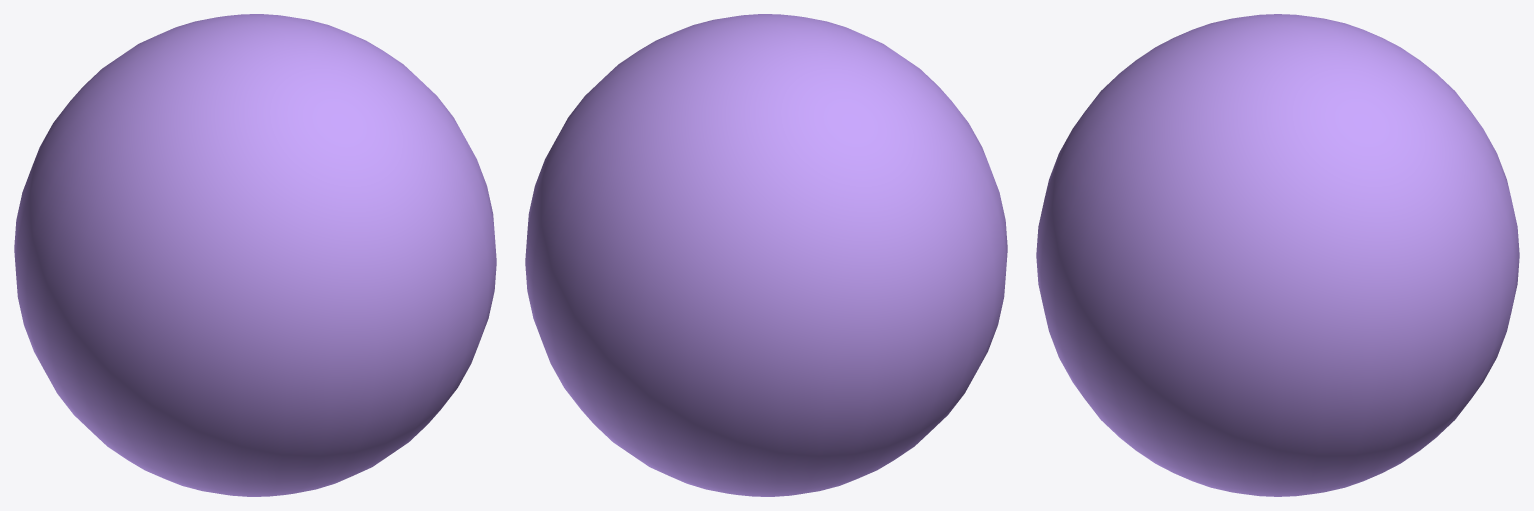
Rendered from nucleus.glb.
3 renders of one model, left to right at view 1: azimuth 30°, elevation 25°; view 2: azimuth 150°, elevation 25°; view 3: azimuth 270°, elevation 25°, orthographic.
Visible parts, largest first — view 1: Nucleus; view 2: Nucleus; view 3: Nucleus.
Boxes of the visible parts, <box> form: Nucleus: <box>14,14,496,496</box>; Nucleus: <box>525,14,1007,496</box>; Nucleus: <box>1036,14,1519,496</box>.
Bounding box in the file's own units: 1.1 × 1.1 × 1.1.
